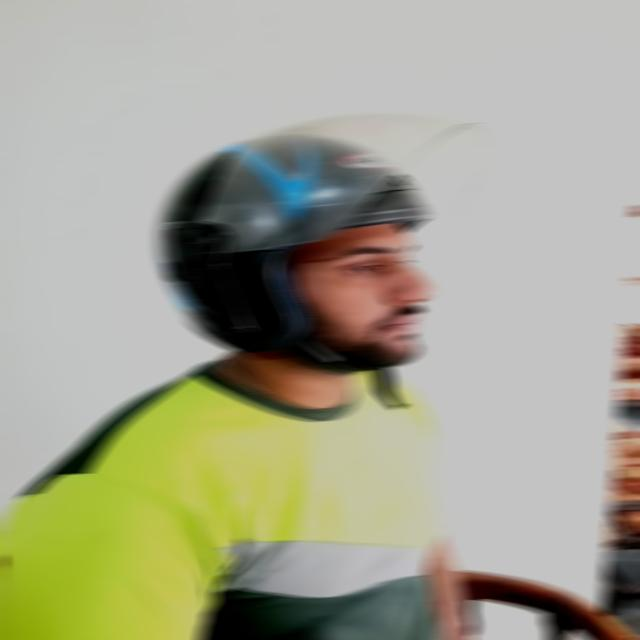With Helmet: (153, 111, 494, 351)
